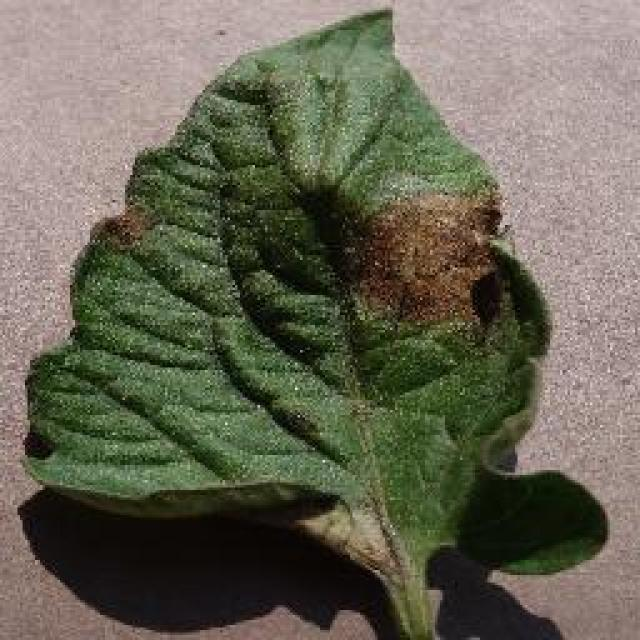Tomato Late Blight: (135, 143, 542, 330)
